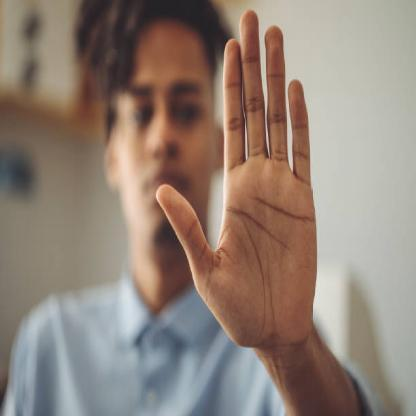stop: (152, 5, 321, 350)
